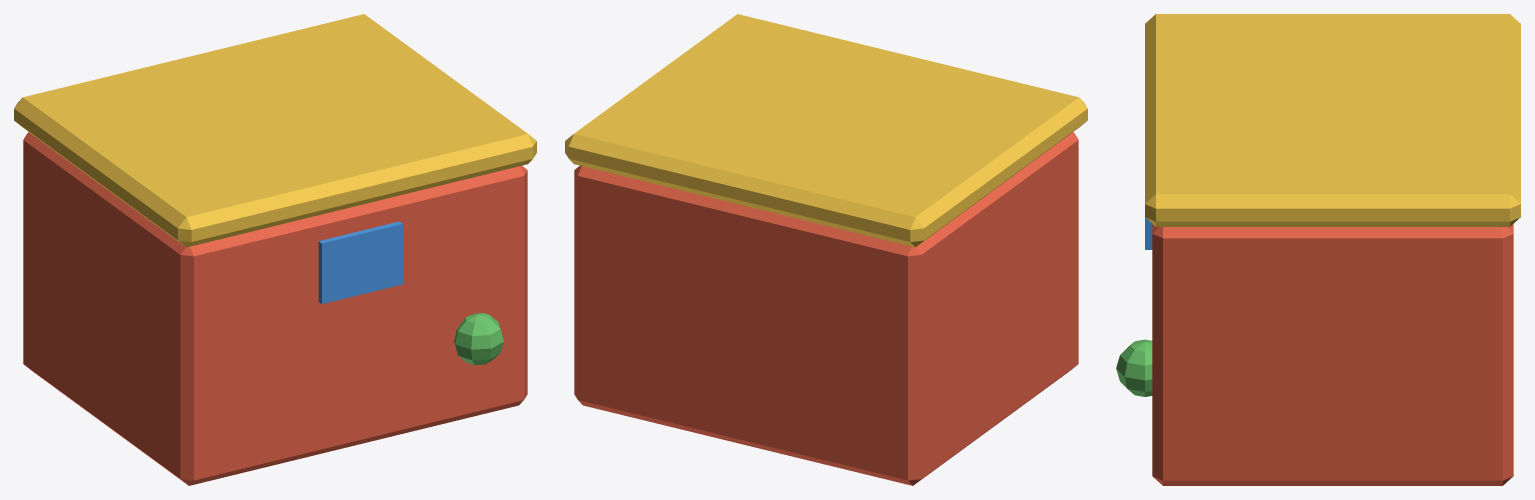
Rendered from toy_chest.fbx.
3 renders of one model, left to right at view 1: azimuth 30°, elevation 25°; view 2: azimuth 150°, elevation 25°; view 3: azimuth 270°, elevation 25°, orthographic. The views are drawn at different scales.
Parts seen in each view (by area): view 1: toy_chest; view 2: toy_chest; view 3: toy_chest.
Boxes of the visible parts, bbox=[...] form: toy_chest: bbox=[14, 14, 536, 485]; toy_chest: bbox=[565, 14, 1087, 485]; toy_chest: bbox=[1116, 14, 1520, 485].
Size of the model in its own units: 0.62 by 0.45 by 0.56.
